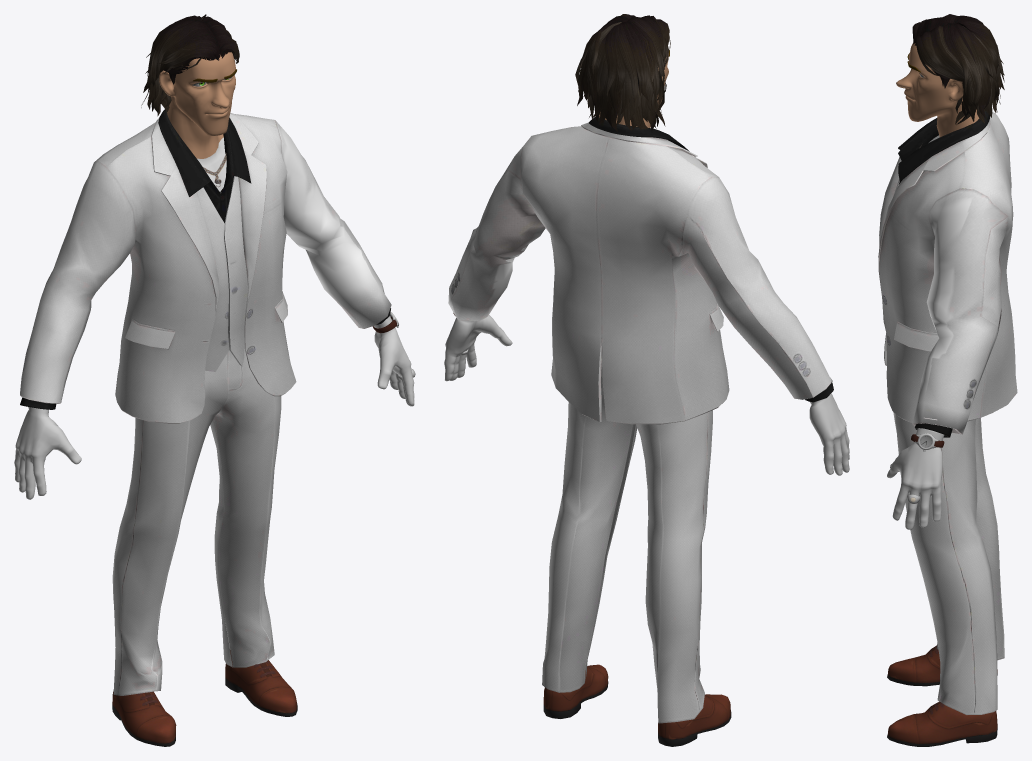
File: M Character 4.fbx
3 views of the same model, side by side, from view 1: azimuth 30°, elevation 25°; view 2: azimuth 150°, elevation 25°; view 3: azimuth 270°, elevation 25° (orthographic).
Parts seen in each view (by area): view 1: m_suit, m_suit pants, m_head, m_body.001, m_shoes 7, M_hair 8, m_body; view 2: m_suit, m_suit pants, M_hair 8, m_body.001, m_shoes 7; view 3: m_suit, m_suit pants, M_hair 8, m_shoes 7, m_body.001, m_head, m_watch 2.
Boxes of the visible parts, x1,y1,x2,y2 form: m_suit: (20,109,391,423); m_suit pants: (112,345,281,695); m_head: (159,52,236,158); m_body.001: (14,316,414,499); m_shoes 7: (112,650,297,746); M_hair 8: (141,14,239,116); m_body: (197,137,226,192); m_suit: (448,116,833,424); m_suit pants: (542,363,712,723); M_hair 8: (575,14,670,131); m_body.001: (444,315,849,475); m_shoes 7: (543,664,731,746); m_suit: (878,110,1017,437); m_suit pants: (893,412,1004,714); M_hair 8: (912,14,1004,124); m_shoes 7: (887,645,997,746); m_body.001: (887,428,944,529); m_head: (896,43,979,137); m_watch 2: (911,433,944,451).
Size of the model in its own units: 118 by 199 by 36.34.
